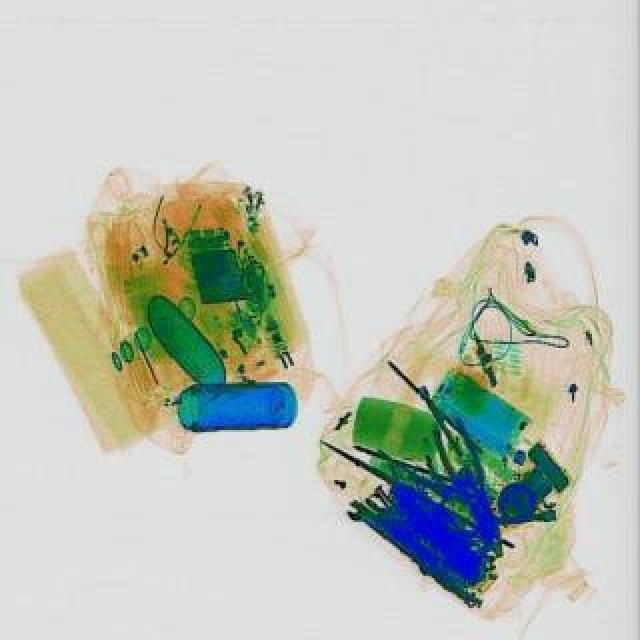scissors: (344, 494, 486, 610)
wrench: (428, 414, 520, 562)
